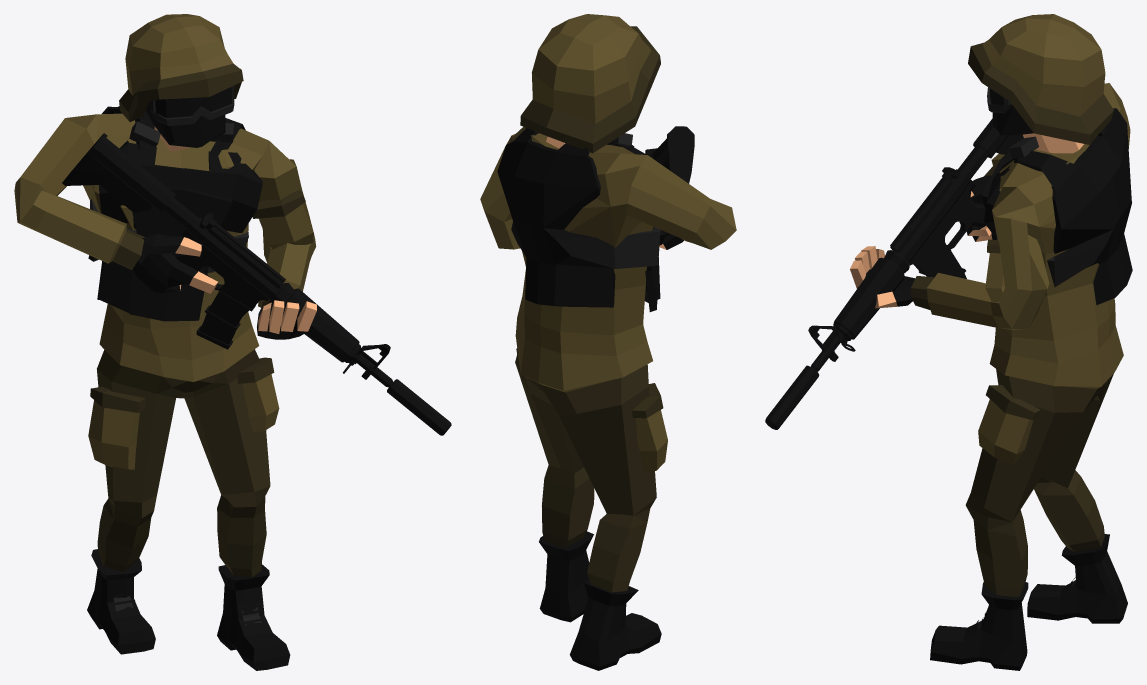
The model's file is soldier3.obj.
3 renders of one model, left to right at view 1: azimuth 30°, elevation 25°; view 2: azimuth 150°, elevation 25°; view 3: azimuth 270°, elevation 25°, orthographic.
Visible parts, largest first — view 1: Soldat_Cylinder.001, M4_Cube.001, M4_Amo_Cube.007; view 2: Soldat_Cylinder.001, M4_Cube.001; view 3: Soldat_Cylinder.001, M4_Cube.001, M4_Amo_Cube.007.
Part boxes in pixels (x1,y1,x2,y2): Soldat_Cylinder.001: (14, 14, 316, 670); M4_Cube.001: (62, 133, 451, 435); M4_Amo_Cube.007: (196, 290, 248, 349); Soldat_Cylinder.001: (480, 14, 736, 670); M4_Cube.001: (645, 126, 694, 245); Soldat_Cylinder.001: (850, 14, 1132, 670); M4_Cube.001: (765, 118, 1023, 429); M4_Amo_Cube.007: (925, 251, 966, 278).
Bounding box in the file's own units: 15.5 × 31.92 × 17.11.
